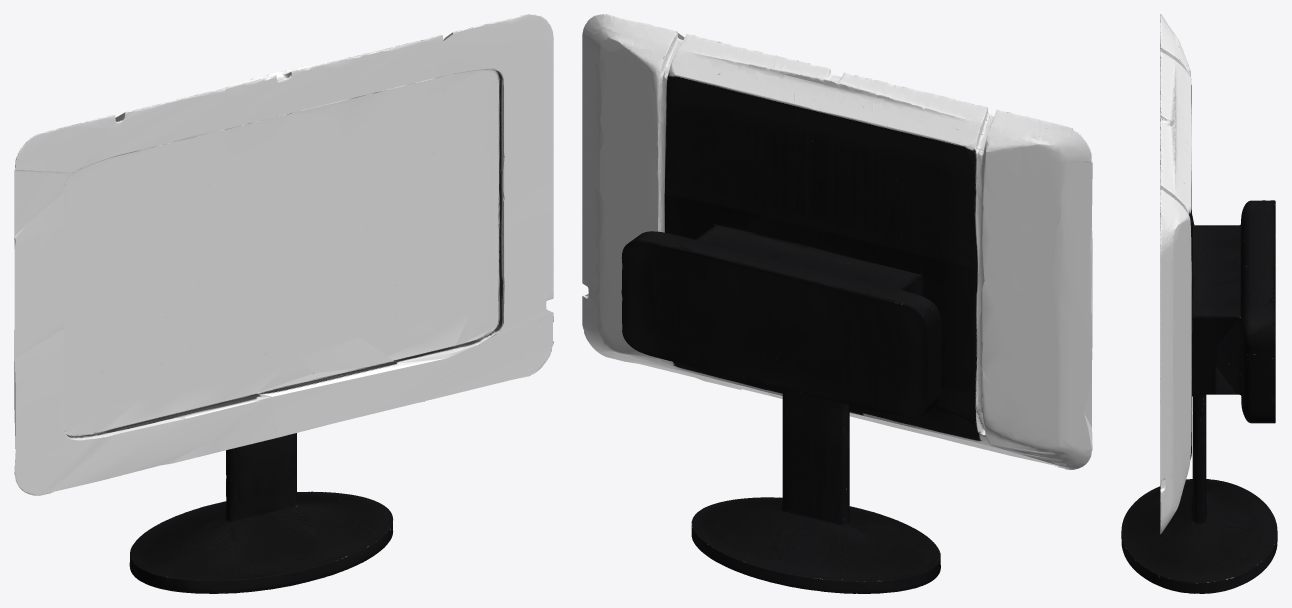
File: monitor-meshy6-web-v1.glb
3 views of the same model, side by side, from view 1: azimuth 30°, elevation 25°; view 2: azimuth 150°, elevation 25°; view 3: azimuth 270°, elevation 25° (orthographic). The views are drawn at different scales.
Bounding box in the file's own units: 1.9 × 1.66 × 0.5523.
Materials: 1 (1 with a texture image).
